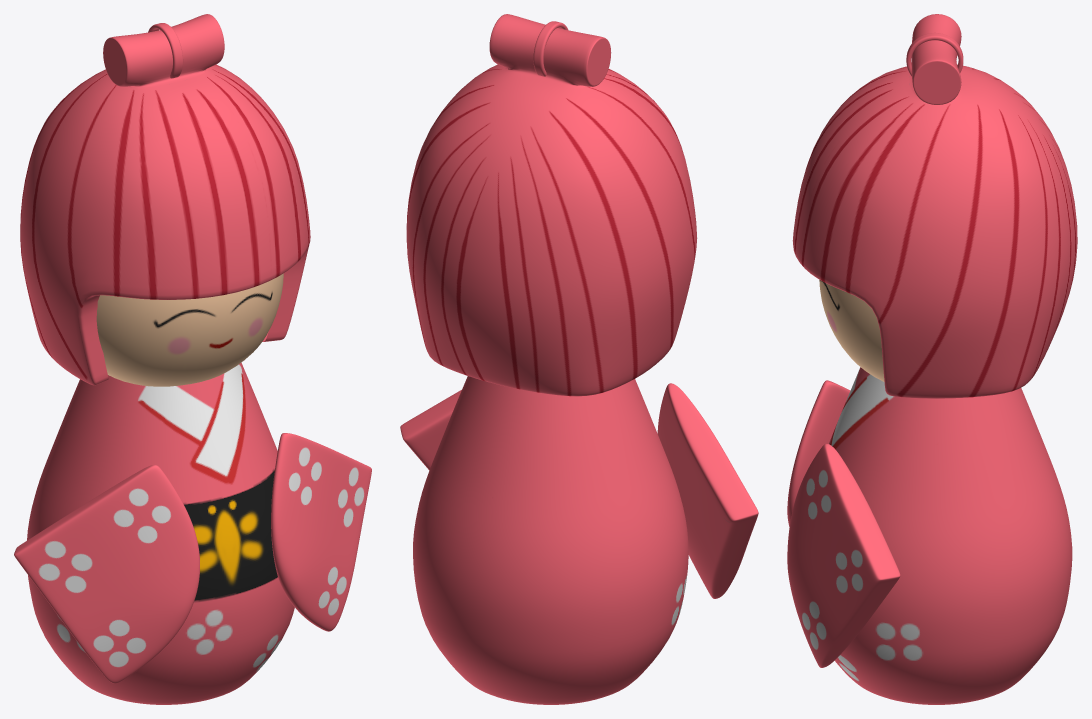
Rendered from kokeshi.glb.
The picture shows the model from 3 angles, left to right: view 1: azimuth 30°, elevation 25°; view 2: azimuth 150°, elevation 25°; view 3: azimuth 270°, elevation 25°; orthographic projection.
Visible parts, largest first — view 1: cuerpo, cintillo; view 2: cuerpo, cintillo; view 3: cuerpo, cintillo.
Part boxes in pixels (box(x1,y1,x2,y2)): cuerpo: box(14, 14, 371, 704); cintillo: box(148, 23, 183, 78); cuerpo: box(400, 14, 758, 704); cintillo: box(533, 21, 568, 76); cuerpo: box(787, 14, 1077, 704); cintillo: box(906, 33, 963, 76).
Size of the model in its own units: 2.8 by 4.83 by 2.
2 materials, 1 textured.
